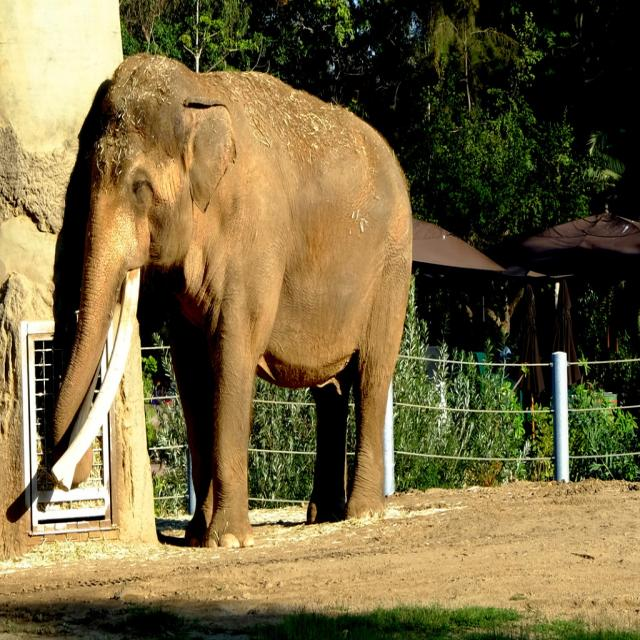Elephant: (47, 49, 414, 550)
